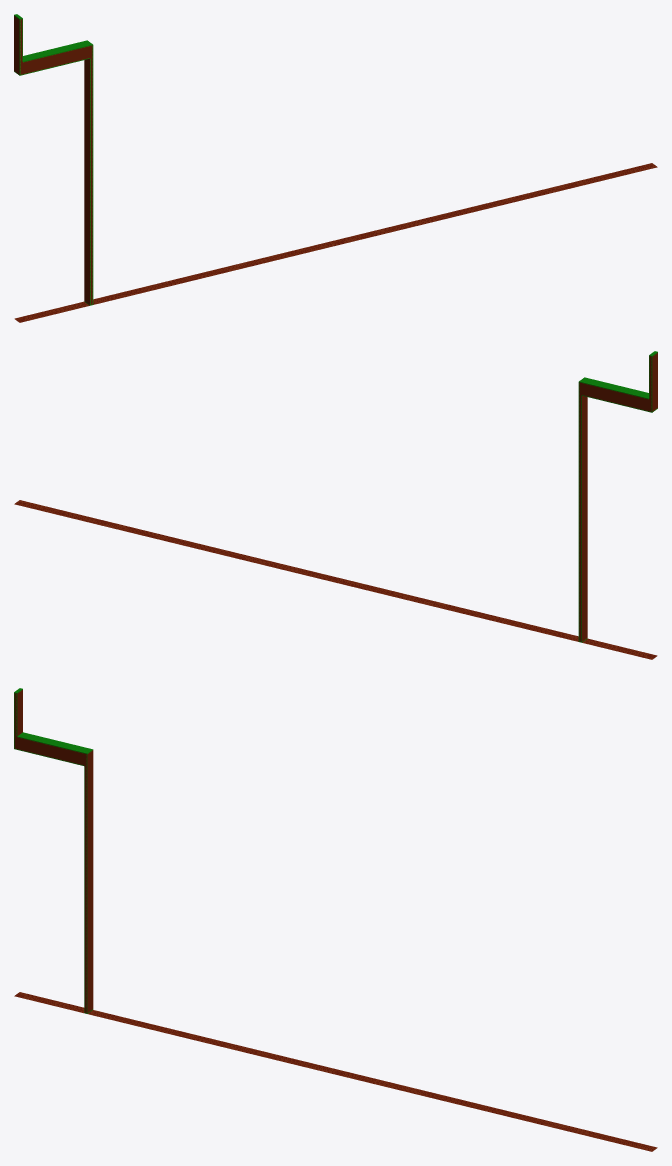
The model's file is Luna4CampoSolo.glb.
3 renders of one model, top to bottom at view 1: azimuth 30°, elevation 25°; view 2: azimuth 150°, elevation 25°; view 3: azimuth 330°, elevation 25°, orthographic.
Visible parts, largest first — view 1: Setor_0, Setor_4, Setor_1; view 2: Setor_0, Setor_4, Setor_1; view 3: Setor_0, Setor_4, Setor_1.
Boxes of the visible parts, x1,y1,x2,y2 form: Setor_0: [14, 14, 93, 305]; Setor_4: [333, 163, 657, 244]; Setor_1: [14, 241, 338, 322]; Setor_0: [578, 351, 657, 642]; Setor_4: [14, 500, 338, 581]; Setor_1: [333, 578, 657, 659]; Setor_0: [14, 688, 93, 1013]; Setor_4: [333, 1070, 657, 1151]; Setor_1: [14, 992, 338, 1073].
Size of the model in its own units: 208 by 94.64 by 3.28.
Materials: 1 (1 with a texture image).
